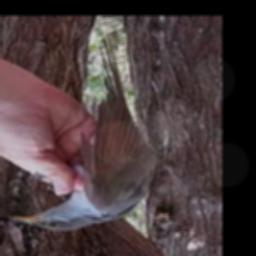Cuckoo: (9, 35, 156, 230)
